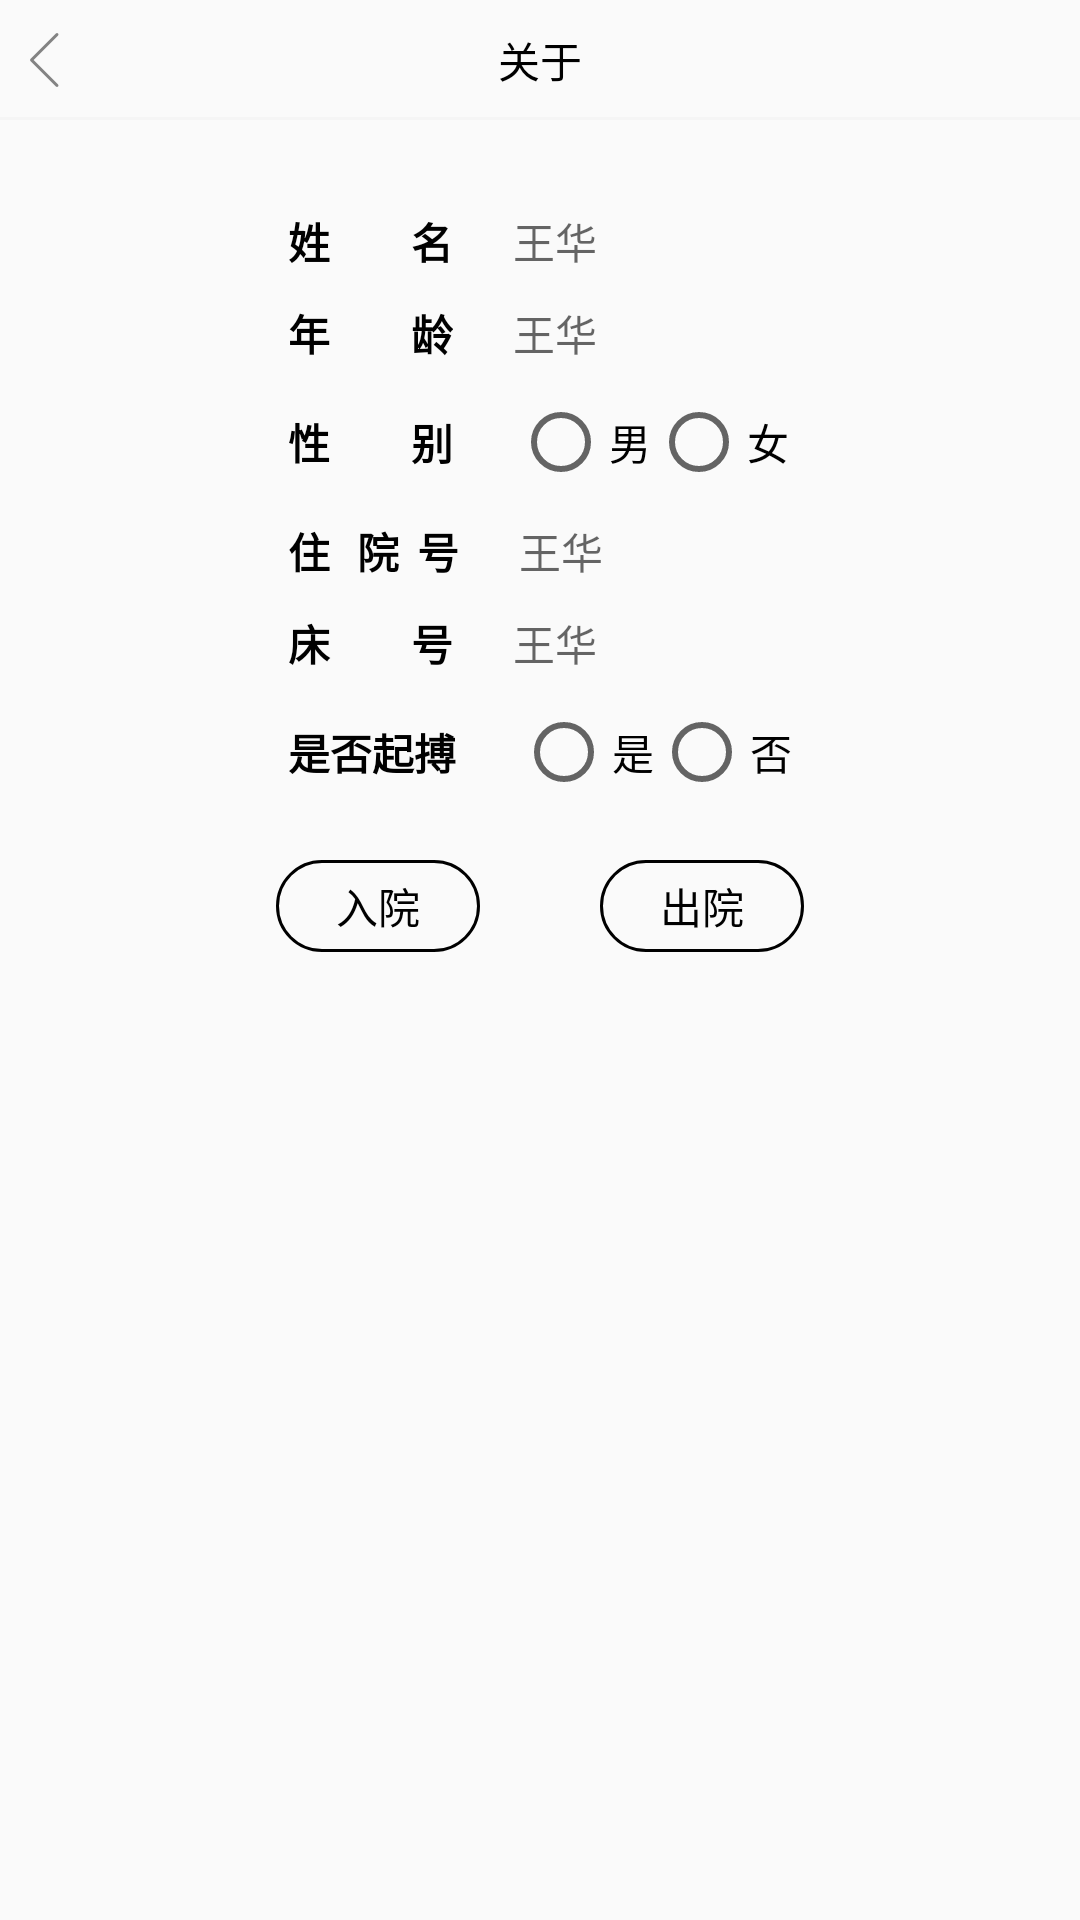

Named icons in this screenshot (1080x1920) and their centers, (x,y):
back: (44,60)
